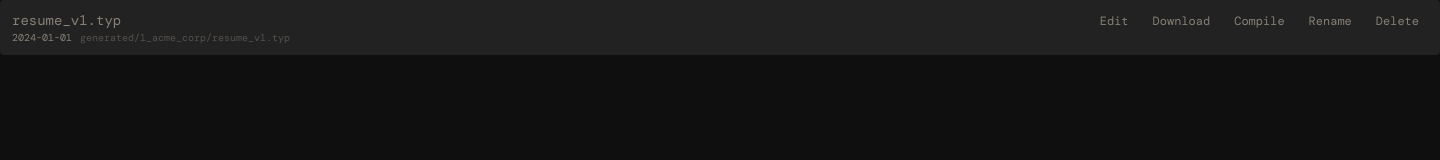
Test case: DocRow › shows validation error for invalid rename value
The width and height of the screenshot is (1440, 160).
Click the button "Rename" at (1330,21), box [1300,10,1361,32]
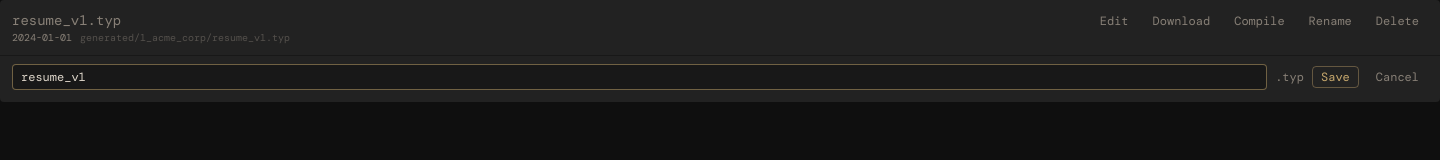
Replace the text in the field with placeholder "new-filename" with "invalid name!" at (640,77), box [12,64,1267,90]
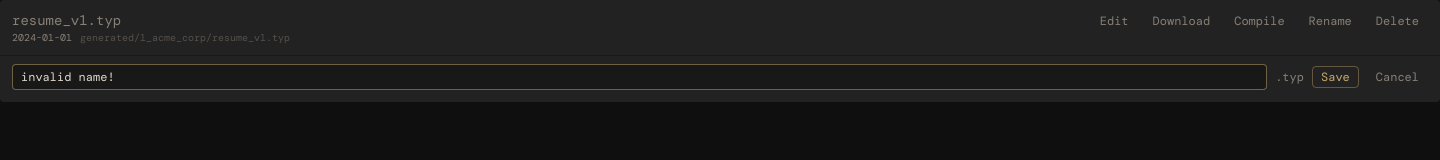
Click the button "Save" at (1335,77), box [1312,66,1359,88]
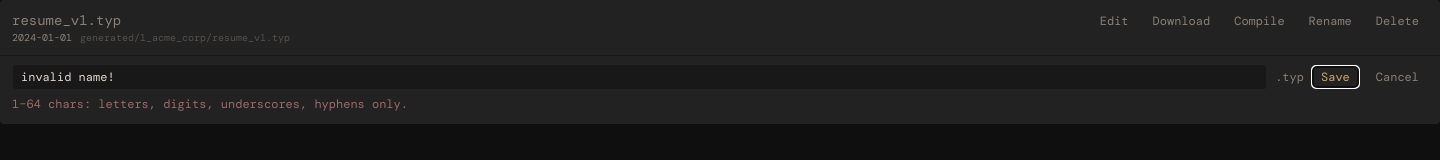
Result: the text "1–64 chars: letters, digits, underscores, hyphens only." is shown at [12,96,408,112]
